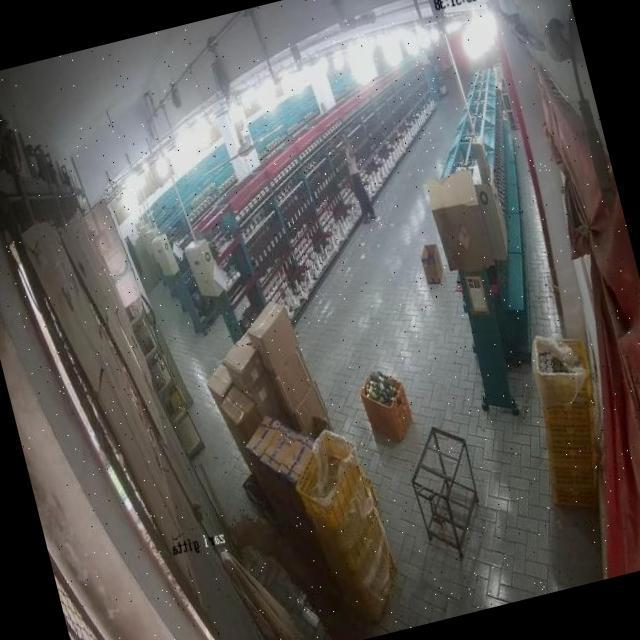person: (340, 134, 375, 225)
